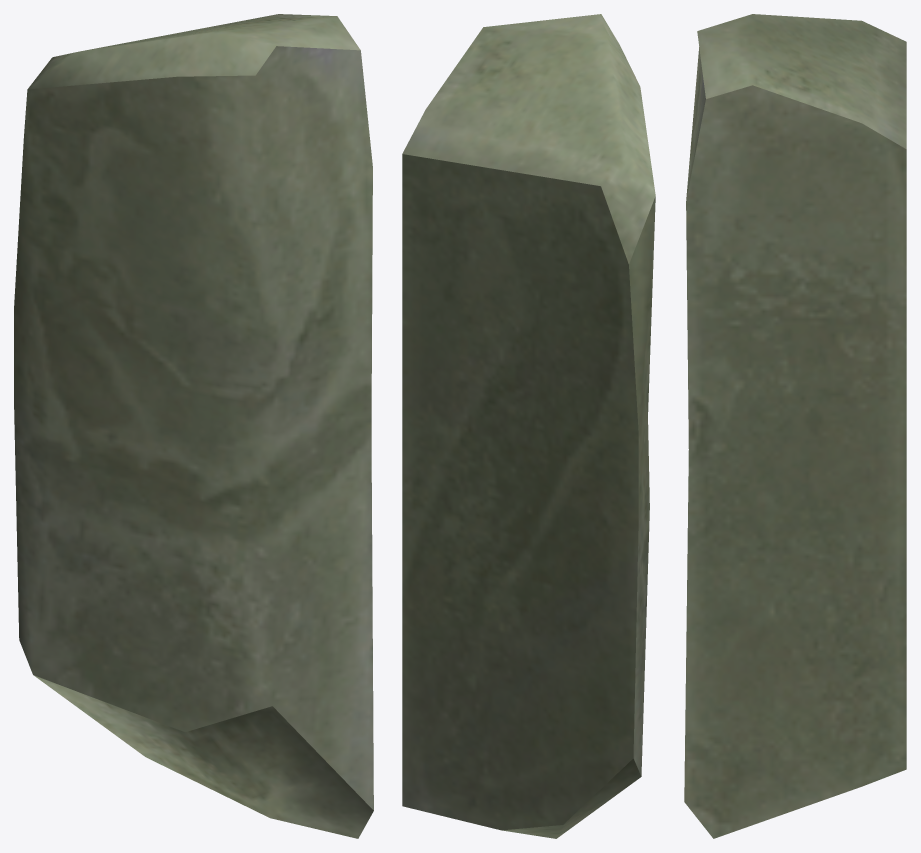
The model's file is Ruins_Trim_Cap_DMG_1M_B.fbx.
3 renders of one model, left to right at view 1: azimuth 30°, elevation 25°; view 2: azimuth 150°, elevation 25°; view 3: azimuth 270°, elevation 25°, orthographic. The views are drawn at different scales.
Visible parts, largest first — view 1: Ruins_Trim_Cap_DMG_1M_B; view 2: Ruins_Trim_Cap_DMG_1M_B; view 3: Ruins_Trim_Cap_DMG_1M_B.
Part boxes in pixels (bbox=[...]): Ruins_Trim_Cap_DMG_1M_B: bbox=[14, 14, 373, 838]; Ruins_Trim_Cap_DMG_1M_B: bbox=[402, 14, 655, 838]; Ruins_Trim_Cap_DMG_1M_B: bbox=[684, 14, 906, 838].
Bounding box in the file's own units: 92.73 × 300 × 78.8.
